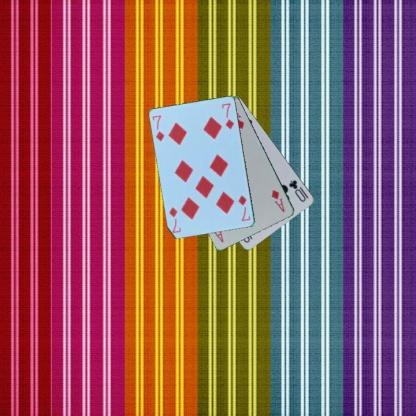10c: (286, 178, 308, 204)
7d: (150, 113, 166, 142), (236, 193, 251, 222)
Ad: (268, 187, 286, 213)
